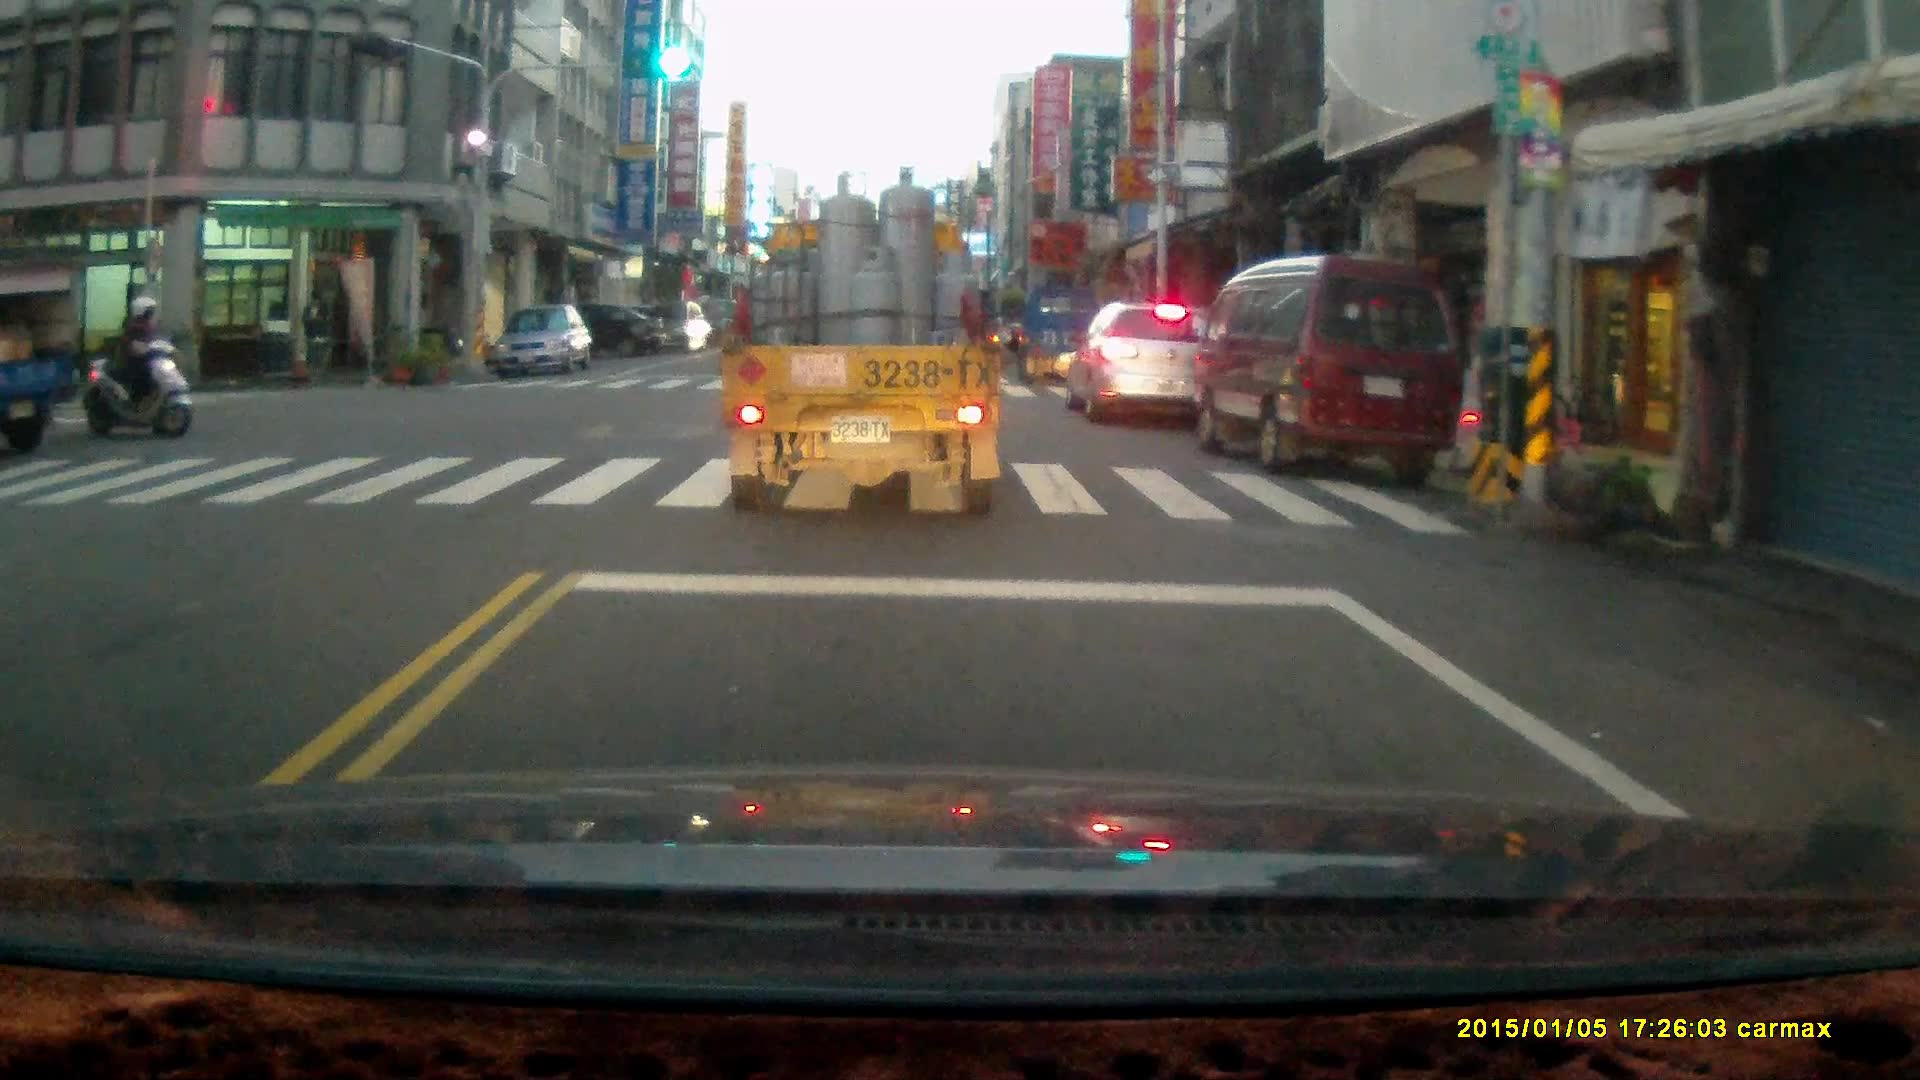pedestrian: (297, 285, 331, 387)
rider: (77, 292, 192, 434)
vehicle: (722, 162, 1007, 512), (1202, 248, 1474, 478), (1070, 289, 1235, 429), (1, 247, 79, 451), (1019, 283, 1105, 386), (490, 302, 594, 383), (530, 297, 664, 358), (624, 298, 713, 352)
